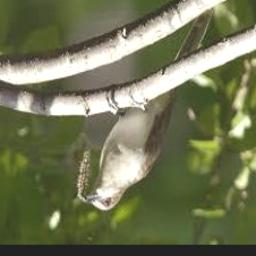Cuckoo: (82, 7, 212, 211)
